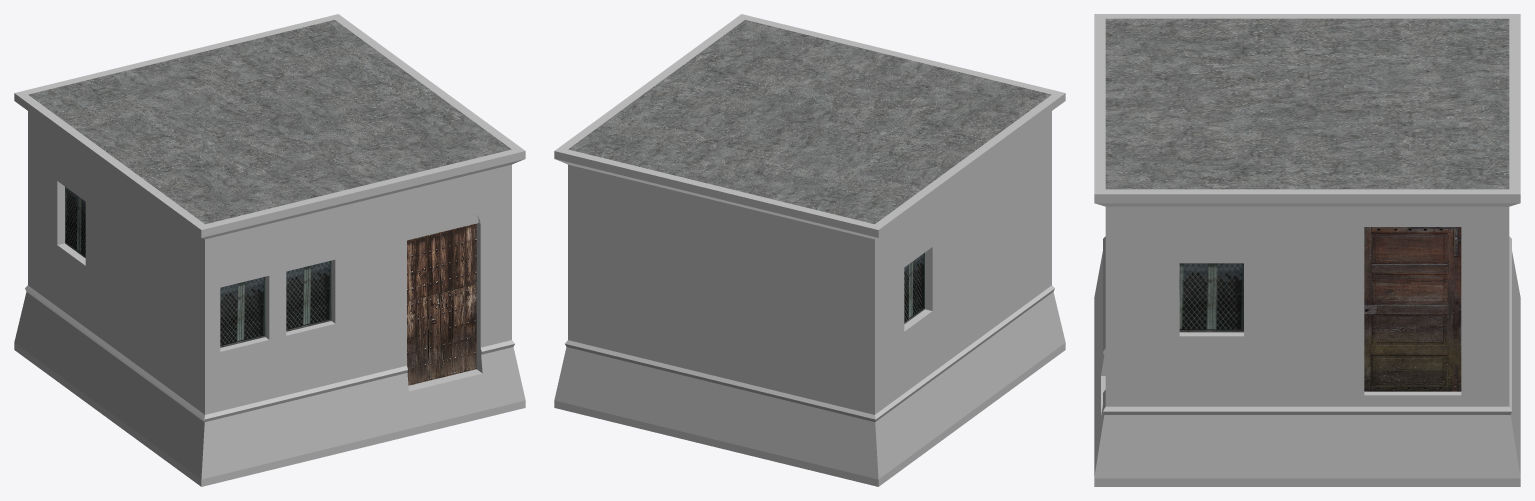
Rendered from Building_Base_08.fbx.
3 renders of one model, left to right at view 1: azimuth 30°, elevation 25°; view 2: azimuth 150°, elevation 25°; view 3: azimuth 270°, elevation 25°, orthographic. The views are drawn at different scales.
Visible parts, largest first — view 1: Building_Base_08; view 2: Building_Base_08; view 3: Building_Base_08.
Part boxes in pixels (box(x1,y1,x2,y2)): Building_Base_08: box(14, 14, 525, 486); Building_Base_08: box(554, 14, 1065, 486); Building_Base_08: box(1094, 14, 1520, 486).
Bounding box in the file's own units: 528 × 400 × 528.
